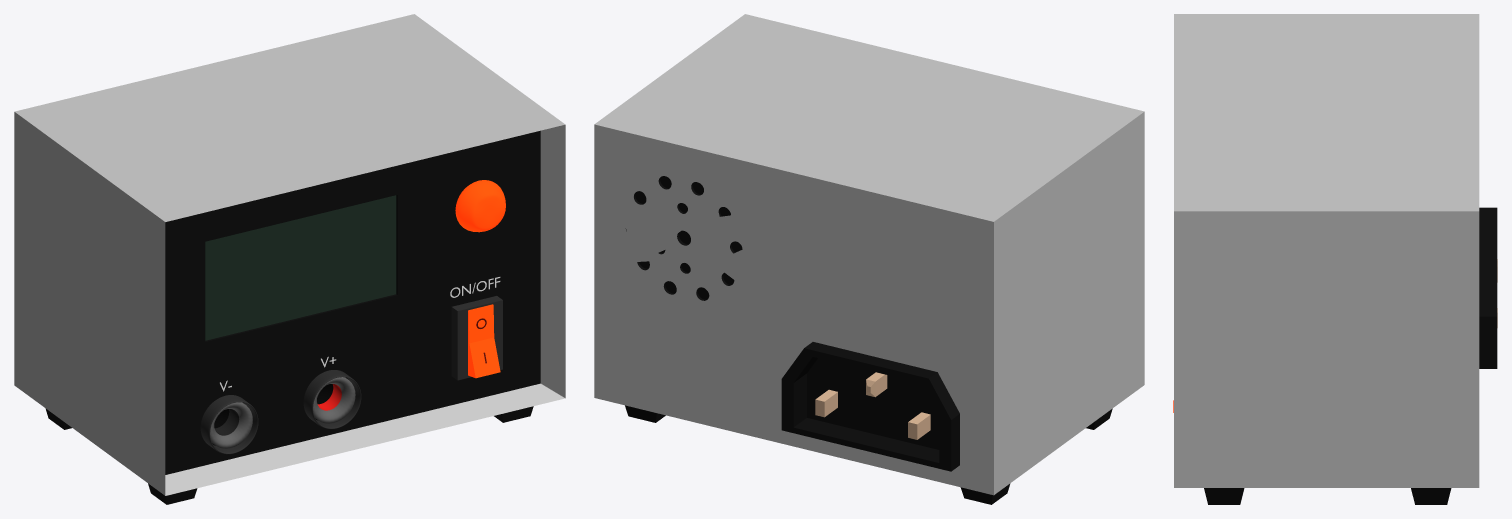
The model's file is Generator 1.fbx.
3 views of the same model, side by side, from view 1: azimuth 30°, elevation 25°; view 2: azimuth 150°, elevation 25°; view 3: azimuth 270°, elevation 25° (orthographic).
Visible parts, largest first — view 1: Cube, Cube.007, Cube.005, Cube.006, Cylinder.003, Cylinder.002, Cylinder.001, Cylinder; view 2: Cube, Cube.008; view 3: Cube, Cube.008, Cube.003, Cube.004.
Boxes of the visible parts, x1,y1,x2,y2 form: Cube: (14,14,565,495); Cube.007: (455,180,505,232); Cube.005: (451,296,502,380); Cube.006: (468,304,500,378); Cylinder.003: (210,402,252,448); Cylinder.002: (313,377,355,423); Cylinder.001: (303,370,361,428); Cylinder: (200,395,258,454); Cube: (594,14,1144,495); Cube.008: (781,342,959,471); Cube: (1174,14,1479,487); Cube.008: (1479,207,1497,368); Cube.003: (1204,488,1244,504); Cube.004: (1411,488,1451,504).
Bounding box in the file's own units: 472 × 337 × 327.
